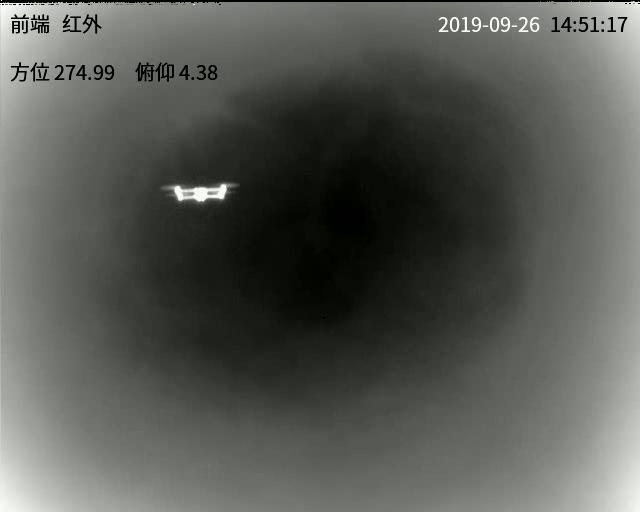DRONE: (167, 183, 233, 202)
